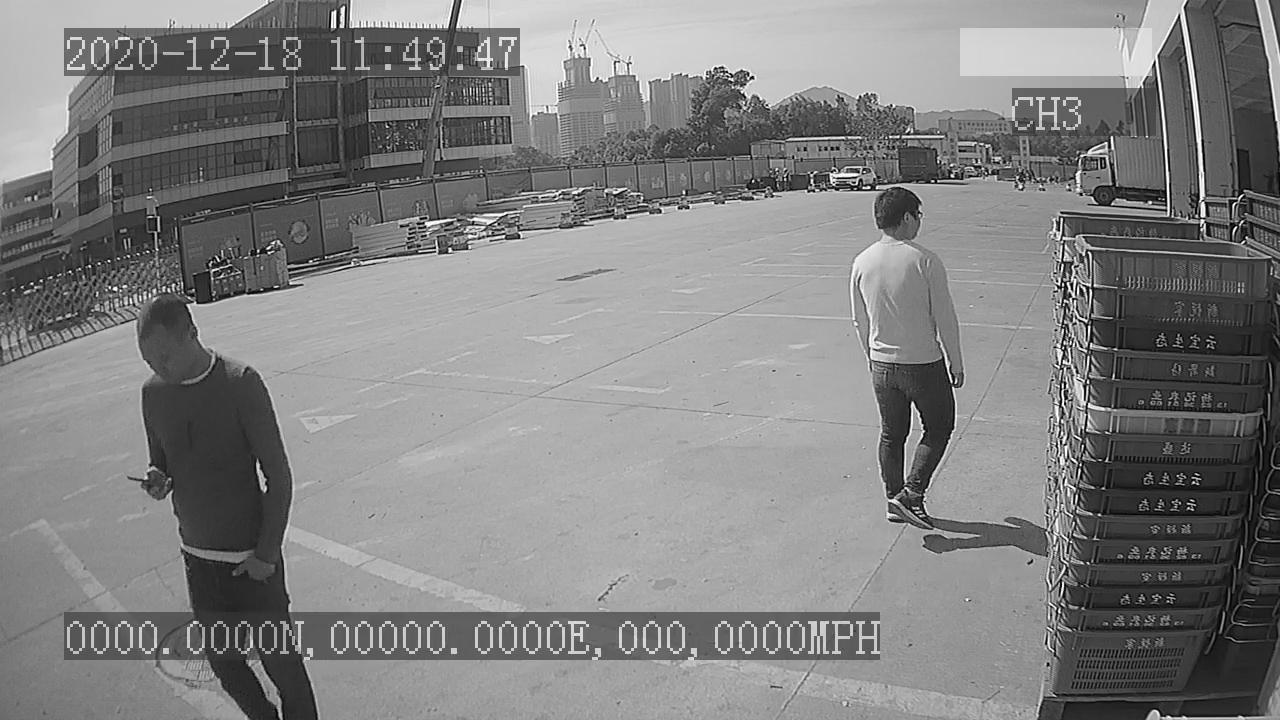person: (842, 181, 972, 535)
